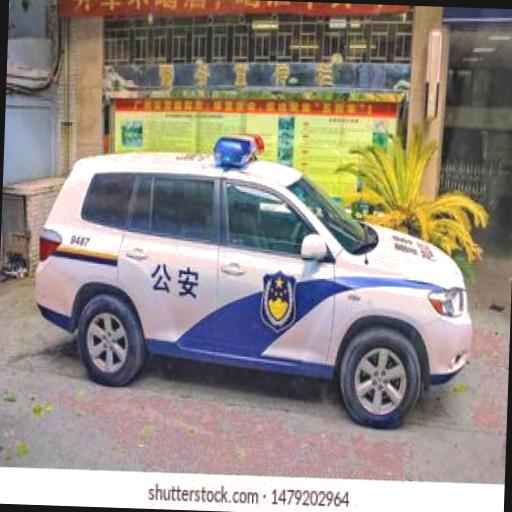Ambulance: (30, 124, 479, 410)
